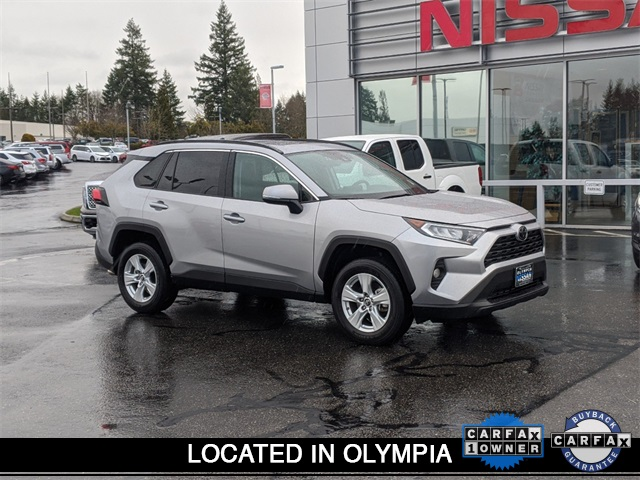Toyota RAV-4: (93, 133, 547, 345)
